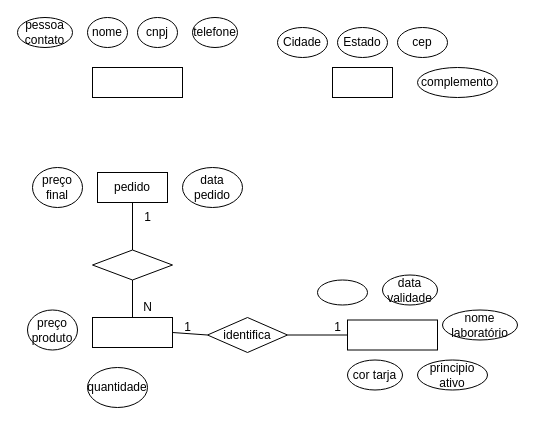
Some shapes in this 535 by 425 pixel diagram are drawn without their labels. Here are the shapes that lost their labels. From the top down, the centre of each, then its label:
At point (137, 82): "Cliente".
At point (362, 82): "Endereço".
At point (132, 264): "contem".
At point (342, 292): "tipo".
At point (132, 332): "produto".
At point (392, 334): "medicamento".
